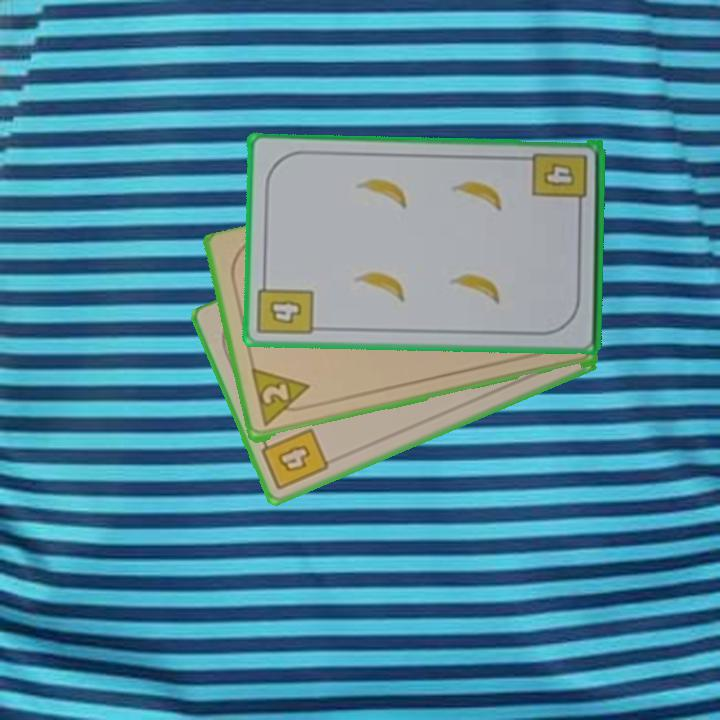2p: (247, 366, 316, 431)
4b: (256, 425, 332, 494), (254, 274, 316, 339), (529, 150, 591, 214)
